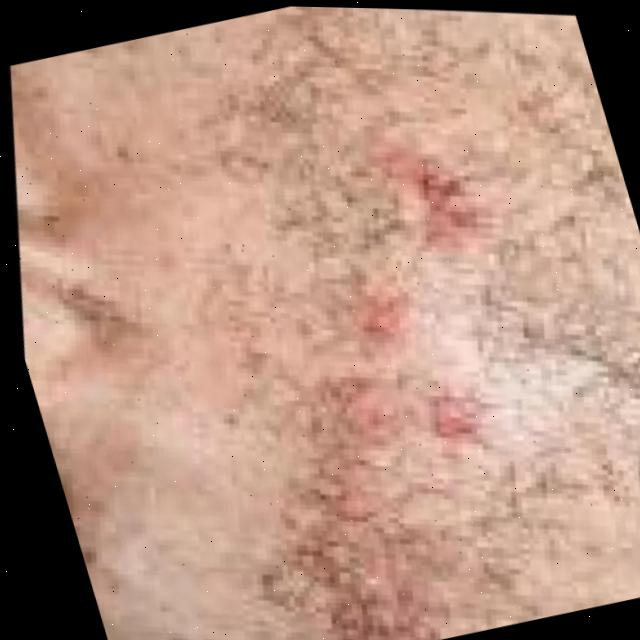Shingles: (169, 153, 597, 640)
